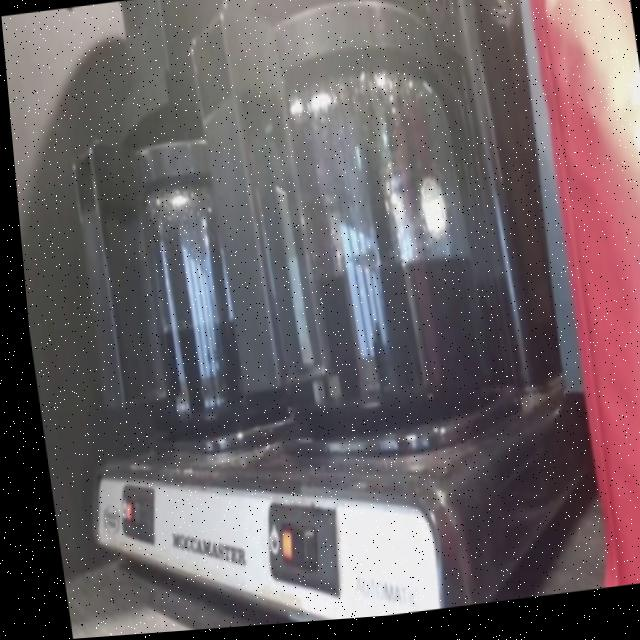coffee: (212, 0, 513, 463), (75, 102, 311, 460)
